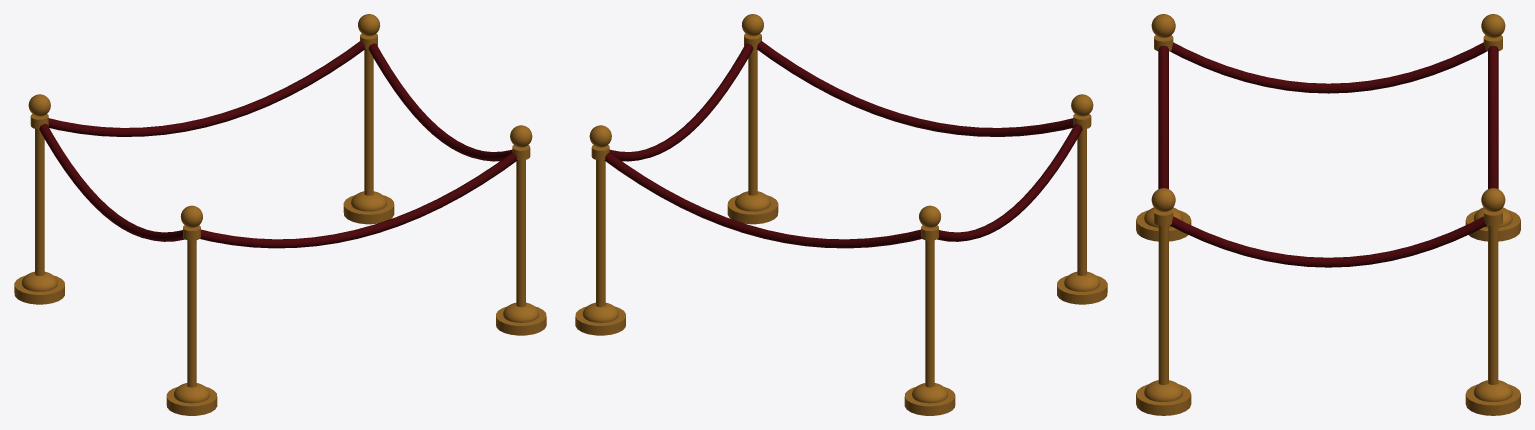
File: Rail_Exhibition_CentralSculpture.fbx
3 views of the same model, side by side, from view 1: azimuth 30°, elevation 25°; view 2: azimuth 150°, elevation 25°; view 3: azimuth 270°, elevation 25° (orthographic). The views are drawn at different scales.
Parts seen in each view (by area): view 1: M_Barrier_Brass, M_Barrier_RedVelvet; view 2: M_Barrier_Brass, M_Barrier_RedVelvet; view 3: M_Barrier_Brass, M_Barrier_RedVelvet.
Part boxes in pixels (x1,y1,x2,y2): M_Barrier_Brass: [14, 14, 546, 415]; M_Barrier_RedVelvet: [39, 41, 517, 248]; M_Barrier_Brass: [575, 14, 1107, 415]; M_Barrier_RedVelvet: [604, 41, 1082, 248]; M_Barrier_Brass: [1136, 14, 1520, 415]; M_Barrier_RedVelvet: [1158, 42, 1498, 267].
Size of the model in its own units: 203 by 103 by 167.
